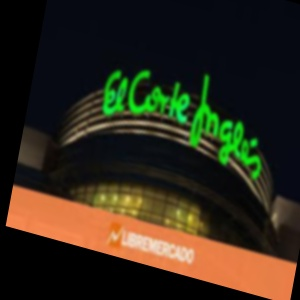corte_ingles: (231, 51, 300, 180)
